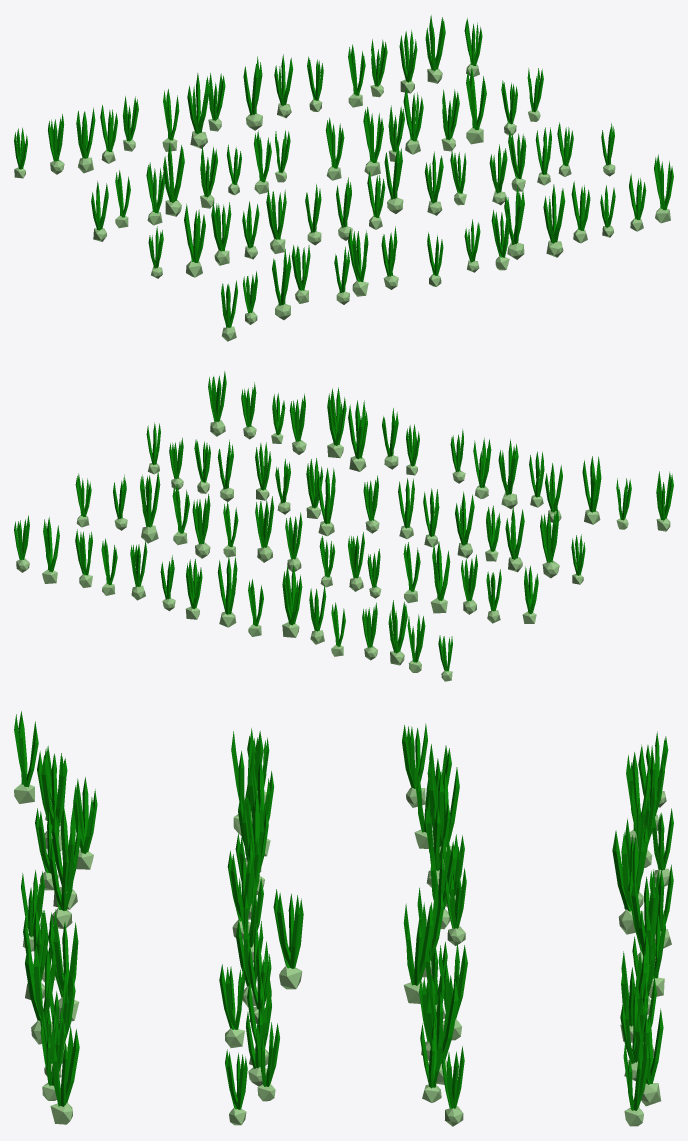
File: planted_onions_large.obj
3 views of the same model, one above another, from view 1: azimuth 30°, elevation 25°; view 2: azimuth 150°, elevation 25°; view 3: azimuth 270°, elevation 25° (orthographic). The views are drawn at different scales.
Visible parts, largest first — view 1: Cube.006_Cube.011, Cube.033_Cube.038, Cube.052_Cube.057, Cube.028_Cube.033, Cube.018_Cube.023, Cube.058_Cube.063, Cube.022_Cube.027, Cube.034_Cube.039, Cube.036_Cube.041, Cube.014_Cube.019, Cube.053_Cube.058, Cube.020_Cube.025 (+50 smaller); view 2: Cube.006_Cube.011, Cube.052_Cube.057, Cube.018_Cube.023, Cube.053_Cube.058, Cube.033_Cube.038, Cube.008_Cube.013, Cube.028_Cube.033, Cube.061_Cube.066, Cube.022_Cube.027, Cube.058_Cube.063, Cube.048_Cube.053, Cube.040_Cube.045 (+50 smaller); view 3: Cube.040_Cube.045, Cube.048_Cube.053, Cube.006_Cube.011, Cube.022_Cube.027, Cube.018_Cube.023, Cube.052_Cube.057, Cube.053_Cube.058, Cube.061_Cube.066, Cube.014_Cube.019, Cube.058_Cube.063, Cube.060_Cube.065, Cube.043_Cube.048 (+43 smaller).
Boxes of the visible parts, bbox=[...] form: Cube.006_Cube.011: bbox=[187, 73, 209, 148]; Cube.033_Cube.038: bbox=[184, 203, 205, 277]; Cube.052_Cube.057: bbox=[543, 184, 565, 257]; Cube.028_Cube.033: bbox=[163, 142, 184, 216]; Cube.018_Cube.023: bbox=[466, 67, 486, 144]; Cube.058_Cube.063: bbox=[348, 229, 368, 296]; Cube.022_Cube.027: bbox=[363, 106, 383, 176]; Cube.034_Cube.039: bbox=[211, 202, 231, 265]; Cube.036_Cube.041: bbox=[266, 189, 286, 253]; Cube.014_Cube.019: bbox=[425, 15, 445, 83]; Cube.053_Cube.058: bbox=[504, 185, 524, 259]; Cube.020_Cube.025: bbox=[403, 87, 423, 154]; Cube.006_Cube.011: bbox=[282, 565, 302, 637]; Cube.052_Cube.057: bbox=[327, 387, 346, 457]; Cube.018_Cube.023: bbox=[140, 470, 160, 543]; Cube.053_Cube.058: bbox=[348, 400, 367, 471]; Cube.033_Cube.038: bbox=[540, 507, 559, 578]; Cube.008_Cube.013: bbox=[217, 556, 237, 627]; Cube.028_Cube.033: bbox=[430, 541, 450, 613]; Cube.061_Cube.066: bbox=[582, 456, 601, 524]; Cube.022_Cube.027: bbox=[255, 496, 274, 562]; Cube.058_Cube.063: bbox=[498, 439, 518, 508]; Cube.048_Cube.053: bbox=[208, 371, 226, 436]; Cube.040_Cube.045: bbox=[317, 468, 335, 536]; Cube.040_Cube.045: bbox=[273, 889, 303, 989]; Cube.048_Cube.053: bbox=[50, 1026, 79, 1124]; Cube.006_Cube.011: bbox=[612, 830, 645, 934]; Cube.022_Cube.027: bbox=[403, 902, 433, 1003]; Cube.018_Cube.023: bbox=[427, 974, 458, 1084]; Cube.052_Cube.057: bbox=[25, 943, 56, 1044]; Cube.053_Cube.058: bbox=[48, 918, 79, 1021]; Cube.061_Cube.066: bbox=[37, 751, 66, 851]; Cube.014_Cube.019: bbox=[634, 1008, 663, 1106]; Cube.058_Cube.063: bbox=[51, 805, 80, 909]; Cube.060_Cube.065: bbox=[73, 777, 97, 869]; Cube.043_Cube.048: bbox=[219, 964, 244, 1047].
Bounding box in the file's own units: 0.9804 × 0.1472 × 0.8165.
